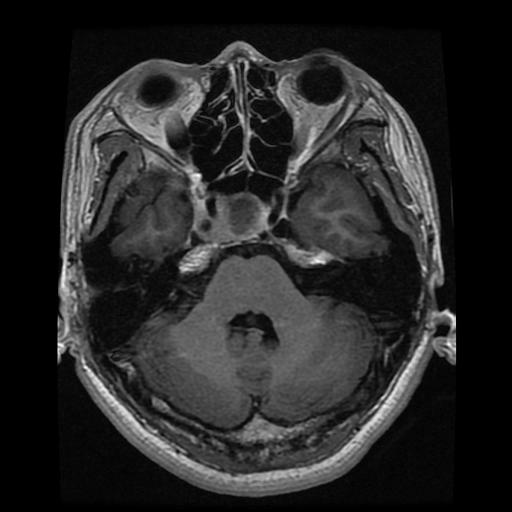Tumour-Pituitary: (200, 189, 282, 246)
